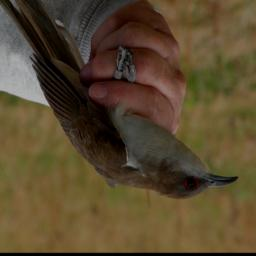Cuckoo: (0, 0, 239, 201)
